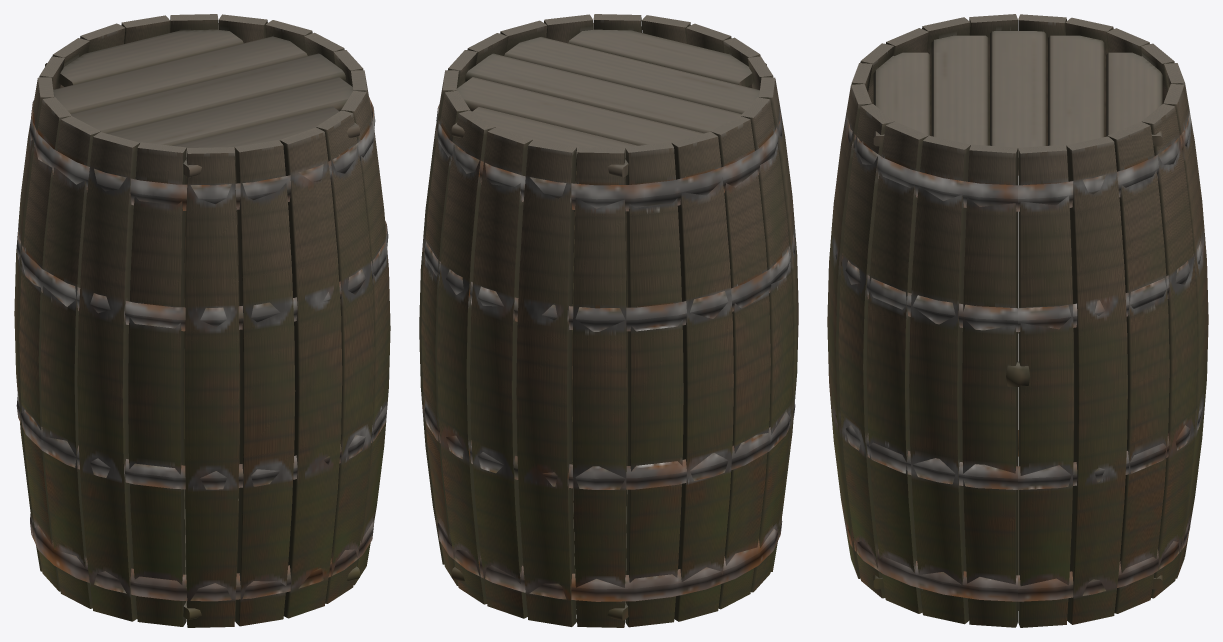
Rendered from SM_Barracks_Barrel.fbx.
3 views of the same model, side by side, from view 1: azimuth 30°, elevation 25°; view 2: azimuth 150°, elevation 25°; view 3: azimuth 270°, elevation 25° (orthographic).
Visible parts, largest first — view 1: SM_Barracks_Barrel; view 2: SM_Barracks_Barrel; view 3: SM_Barracks_Barrel.
Part boxes in pixels (x1,y1,x2,y2): SM_Barracks_Barrel: (14, 14, 390, 627); SM_Barracks_Barrel: (419, 14, 798, 627); SM_Barracks_Barrel: (827, 14, 1208, 627).
Size of the model in its own units: 65.04 by 65.56 by 90.
